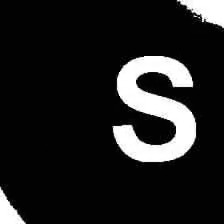LTR_S: (102, 45, 203, 173)
